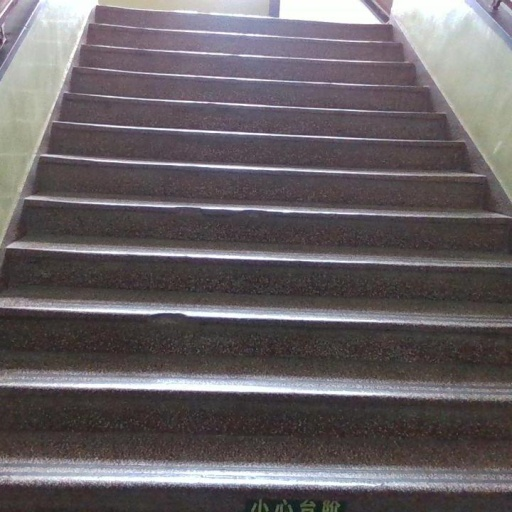Stairs: (0, 7, 512, 512)
